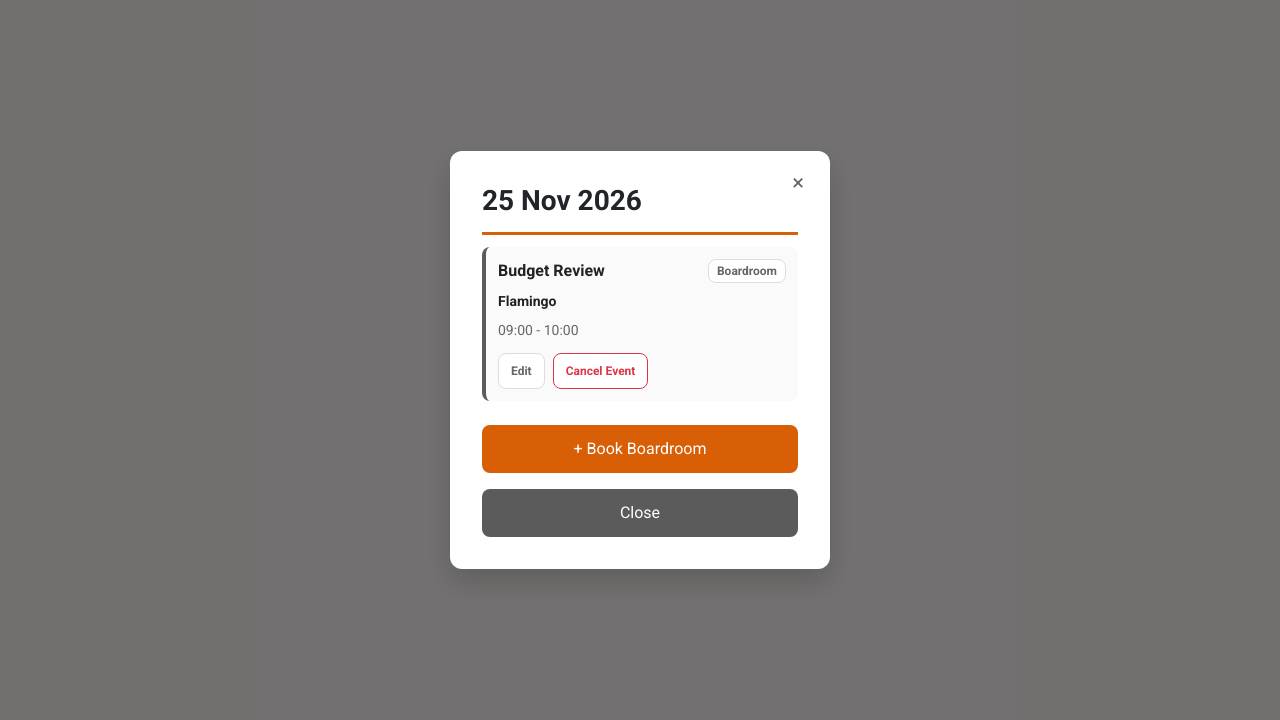
Test: DayEventsModal - admin cancellation › requires a second confirming click before calling onCancelEvent
Later steps or results of the test are not shown.
Click the button "Cancel Event". click: click(600, 371)
box: [553,353,648,389]
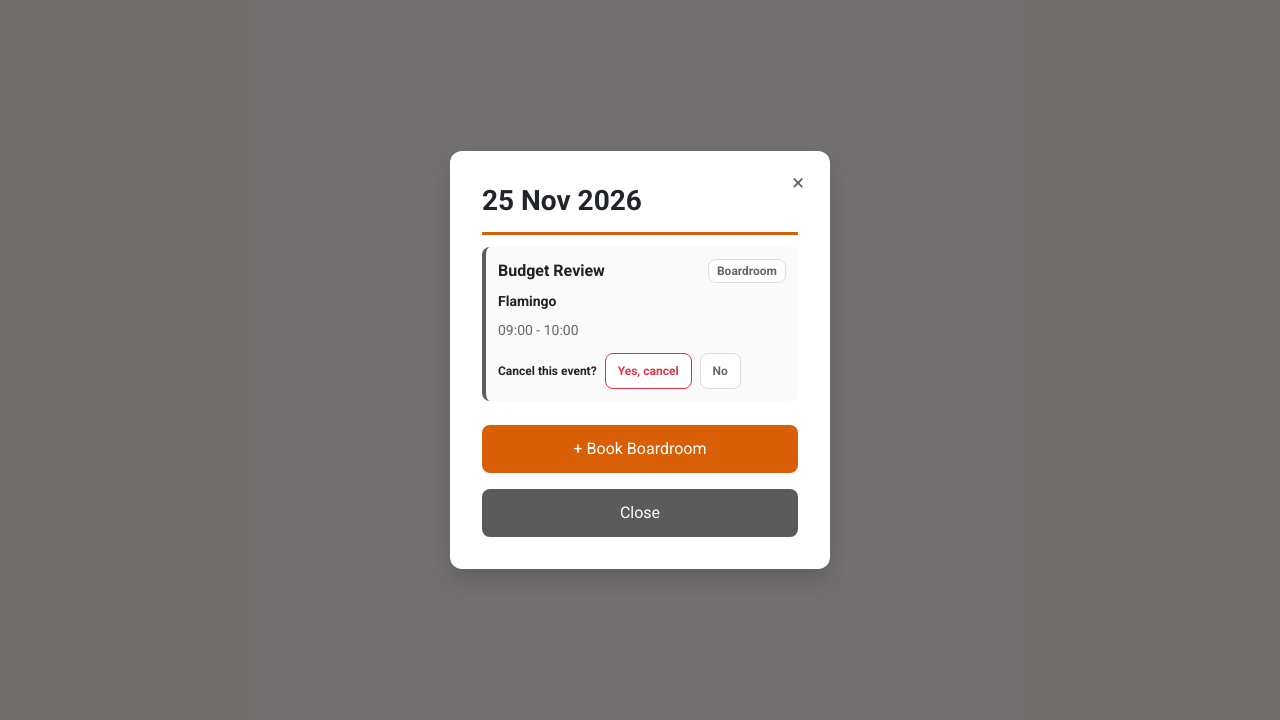
Result: the text "Cancel this event?" is shown at [498,362,597,380]
